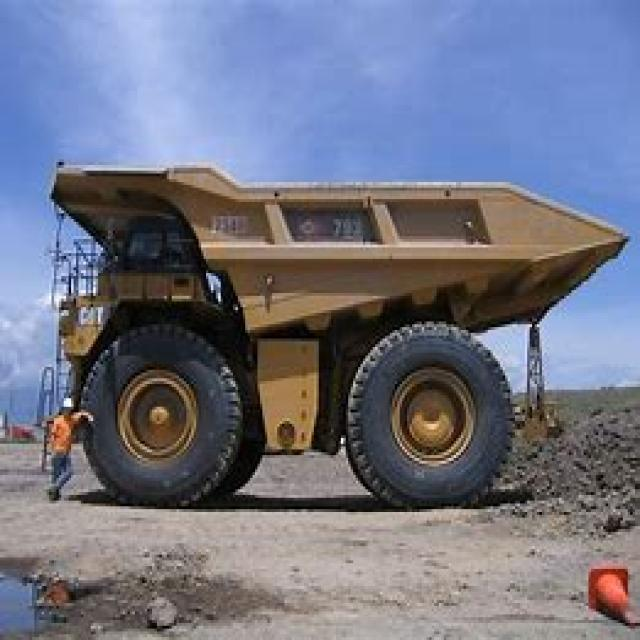dump_truck: (27, 139, 625, 526)
